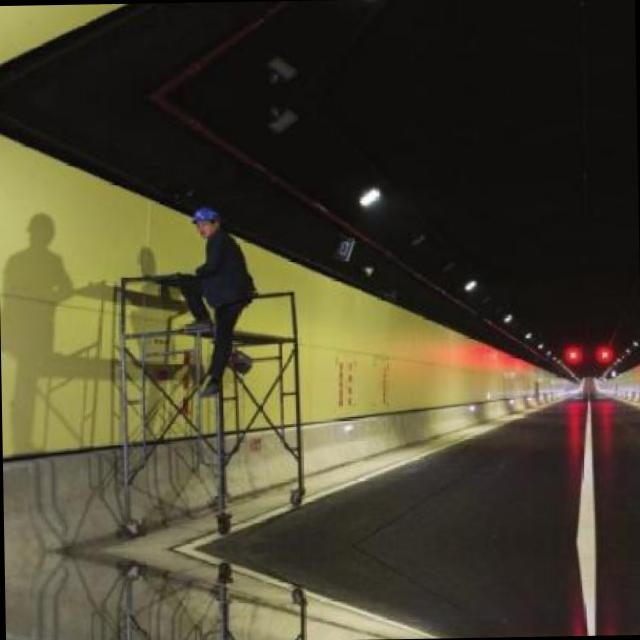helmet: (188, 202, 224, 246)
